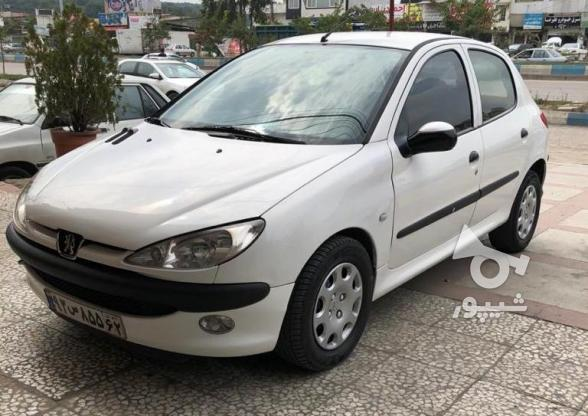car: (44, 287, 127, 337)
